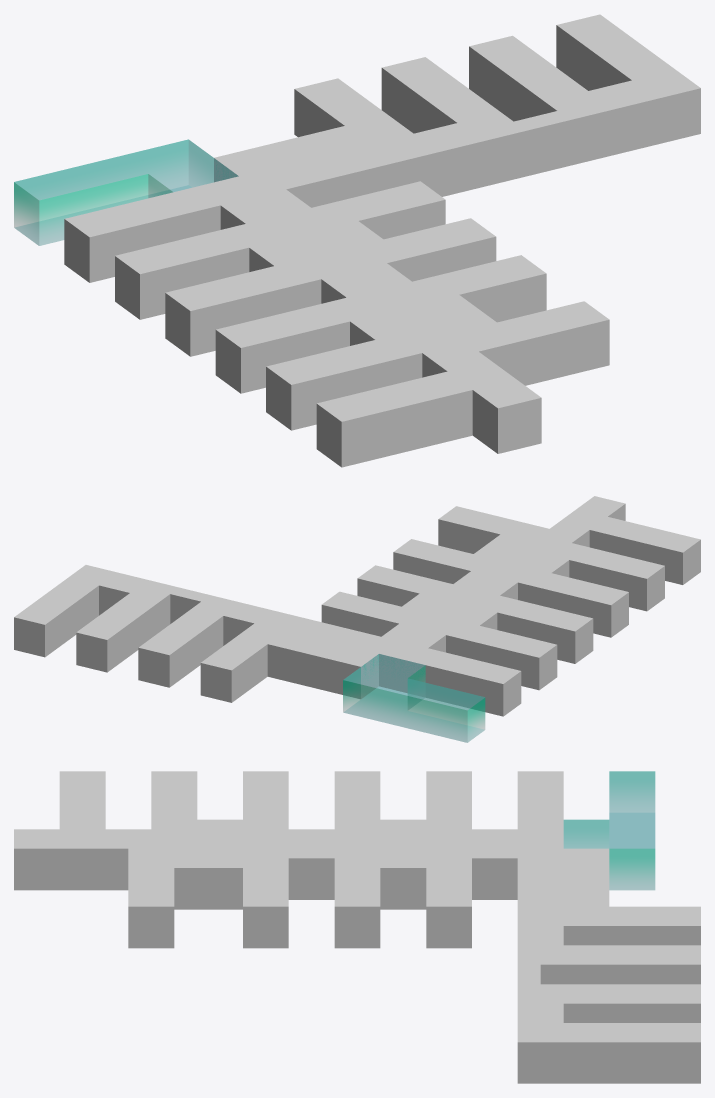
3 renders of one model, top to bottom at view 1: azimuth 30°, elevation 25°; view 2: azimuth 150°, elevation 25°; view 3: azimuth 270°, elevation 25°, orthographic. The views are drawn at different scales.
Visible parts, largest first — view 1: building8, building4, building2, building3, building5, building6, building1, building7; view 2: building8, building2, building3, building4, building1, building7, building5, building6; view 3: building8, building6, building4, building5, building3, building2, building7, building1.
Part boxes in pixels (box(x1,y1,x2,y2)): building8: box(294, 14, 700, 196); building4: box(266, 324, 541, 467); building2: box(64, 176, 339, 319); building3: box(165, 250, 440, 393); building5: box(391, 255, 609, 385); building6: box(290, 181, 496, 286); building1: box(14, 139, 238, 245); building7: box(214, 126, 395, 212); building8: box(14, 565, 303, 702); building2: box(379, 601, 557, 716); building3: box(451, 548, 628, 663); building4: box(523, 496, 700, 611); building1: box(343, 654, 485, 742); building7: box(267, 618, 414, 698); building5: box(393, 506, 548, 583); building6: box(321, 565, 486, 636); building8: box(517, 906, 700, 1083); building6: box(288, 848, 471, 948); building4: box(14, 771, 197, 890); building5: box(128, 848, 288, 948); building3: box(197, 771, 380, 848); building2: box(380, 771, 563, 848); building7: box(472, 848, 609, 906); building1: box(563, 771, 655, 890).
Bounding box in the file's own units: 560 × 40 × 600.
Materials: 3 (2 with a texture image).
